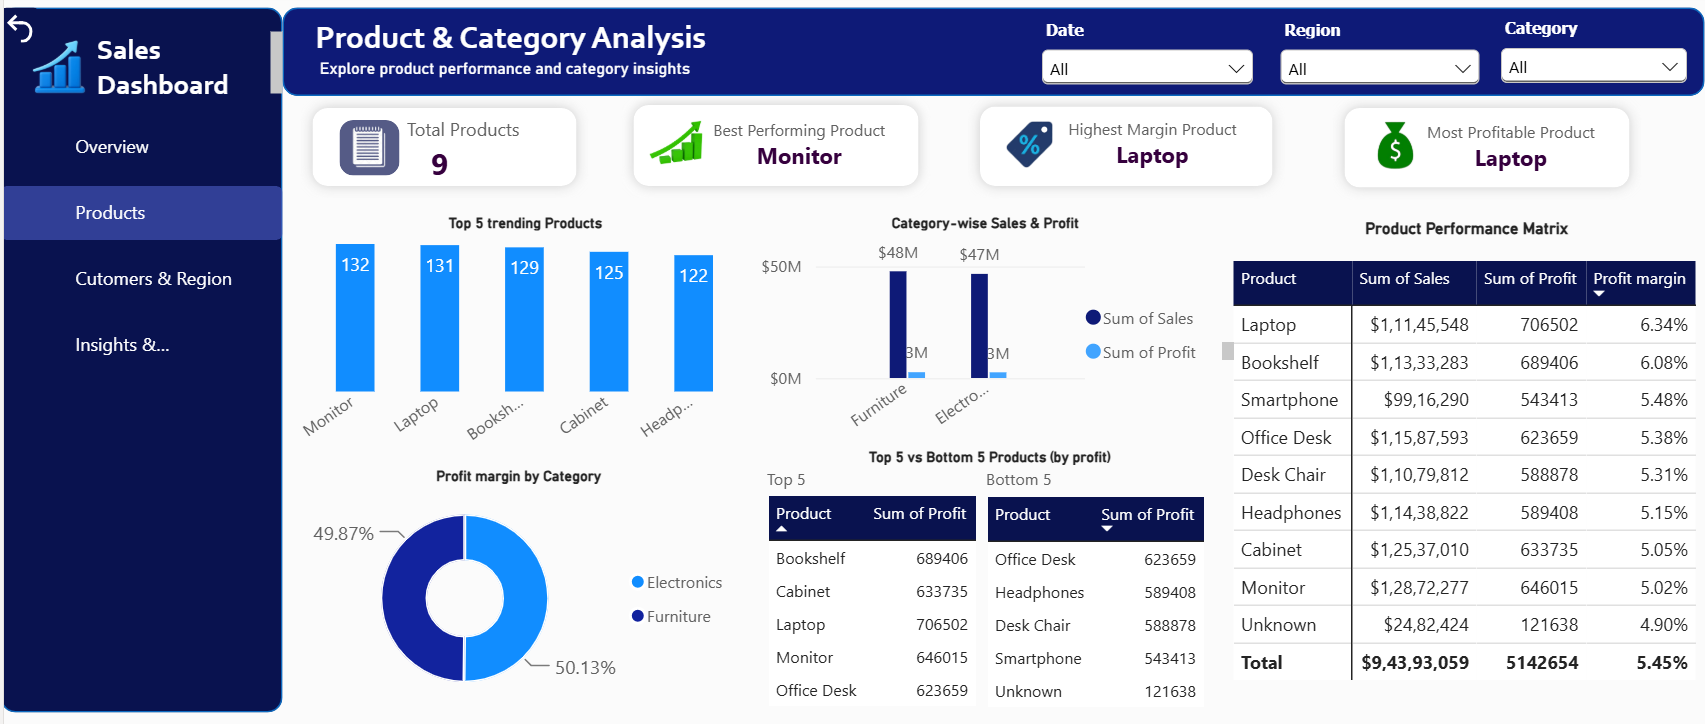

The dashboard page shown, as its layout file describes it:
{"tool":"powerbi","page":{"name":"Products","canvas":[1150,485],"ordinal":1},"visuals":[{"type":"shape","box":[421.2,63.6,206.1,70.7],"z":0},{"type":"shape","box":[195,7,948,59],"z":1000},{"type":"shape","box":[7.1,7.1,188.1,470.2],"z":2000},{"type":"pageNavigator","box":[7,82.4,187.9,169.4],"z":3000},{"type":"textbox","box":[67.3,23.2,127.6,44.1],"z":4000},{"type":"image","box":[15.1,13.9,60.3,65],"z":5000},{"type":"slicer","fields":{"Values":["SalesData.OrderDate"]},"box":[695.7,15.2,151.7,59.7],"z":6000},{"type":"shape","box":[207.1,65.7,191.9,68.7],"z":7000},{"type":"slicer","fields":{"Values":["SalesData.Region"]},"box":[855.4,15.2,142.6,59.7],"z":8000},{"type":"slicer","fields":{"Values":["SalesData.Category"]},"box":[1002,14.2,133.5,59.7],"z":9000},{"type":"shape","box":[894.9,65.7,206.1,69.7],"z":10000},{"type":"cardVisual","fields":{"Data":["Count(SalesData.Product)"]},"box":[277.8,79.8,108.1,45.5],"z":11000},{"type":"clusteredColumnChart","title":"Category-wise Sales & Profit","fields":{"Category":["SalesData.Category"],"Y":["Sum(SalesData.Sales)","Sum(SalesData.Profit)"]},"box":[514.1,141.4,315.2,151.5],"z":12000},{"type":"clusteredColumnChart","title":"Top 5 trending Products","fields":{"Category":["SalesData_1000Rows_WithIssues_copy.Product"],"Y":["CountNonNull(SalesData_1000Rows_WithIssues_copy.OrderID)"]},"box":[207.1,141.4,300,160.6],"z":13000},{"type":"donutChart","title":"Profit margin by Category","fields":{"Y":["measure.Profit margin"],"Category":["SalesData.Category"]},"box":[207,310,307,167],"z":14000},{"type":"cardVisual","fields":{"Data":["measure.Best Performing Product"]},"box":[451.5,63.6,175.8,71.7],"z":15000},{"type":"tableEx","title":"Top 5 vs Bottom 5 Products (by profit)","fields":{"Values":["SalesData.Product","Sum(SalesData.Profit)"]},"box":[502,296,329.5,187.9],"z":15000,"group":"g1"},{"type":"pivotTable","title":"Product Performance Matrix","fields":{"Rows":["SalesData.Product"],"Values":["Sum(SalesData.Sales)","Sum(SalesData.Profit)","measure.Profit margin"]},"box":[829.3,134.3,311.1,333.3],"z":16000},{"type":"tableEx","fields":{"Values":["SalesData.Product","Sum(SalesData.Profit)"]},"box":[663.8,314.2,178.6,170.7],"z":16000,"group":"g1"},{"type":"group","id":"g1","title":"Group 2","box":[502,296,340.4,188.9],"z":17000},{"type":"textbox","box":[514.1,230.3,315.2,12.1],"z":18000},{"type":"textbox","box":[217.2,14.1,612.1,30.3],"z":19000},{"type":"textbox","box":[217.2,36.4,612.1,31.3],"z":20000},{"type":"image","box":[432.3,78.8,50.5,36.4],"z":21000},{"type":"shape","box":[651.5,64.6,211.1,69.7],"z":22000},{"type":"cardVisual","fields":{"Data":["measure.Highest Margin Product"]},"box":[686.9,62.6,175.8,71.7],"z":23000},{"type":"cardVisual","fields":{"Data":["measure.Most Profitable Product"]},"box":[926.3,64.6,175.8,71.7],"z":24000},{"type":"image","box":[915.2,59.6,44.1,81.2],"z":25000},{"type":"image","box":[674.7,78.8,36.4,38.4],"z":26000},{"type":"shape","box":[233.3,81.8,39.4,37.1],"z":27000},{"type":"image","box":[217.2,64.6,70.8,69.6],"z":28000},{"type":"actionButton","box":[7,7,25,16],"z":29000},{"type":"image","box":[32,11,19,15],"z":30000},{"type":"image","box":[24,218,26,33],"z":31000},{"type":"image","box":[22,164,29.2,51.1],"z":31001},{"type":"image","box":[22.1,119.3,28.9,48.1],"z":31002},{"type":"image","box":[22,76.6,29,48.7],"z":31003}]}

Visuals, with their boxes on the page's 1150x485 design canvas (x1, y1, x2, y2). These are canvas units, not pixel positions in the 1705x724 screenshot, which may show the page scaled, cropped or inside an application window:
shape: bbox(421, 64, 627, 134)
shape: bbox(195, 7, 1143, 66)
shape: bbox(7, 7, 195, 477)
pageNavigator: bbox(7, 82, 195, 252)
textbox: bbox(67, 23, 195, 67)
image: bbox(15, 14, 75, 79)
slicer - SalesData.OrderDate: bbox(696, 15, 847, 75)
shape: bbox(207, 66, 399, 134)
slicer - SalesData.Region: bbox(855, 15, 998, 75)
slicer - SalesData.Category: bbox(1002, 14, 1136, 74)
shape: bbox(895, 66, 1101, 135)
cardVisual - Count(SalesData.Product): bbox(278, 80, 386, 125)
"Category-wise Sales & Profit" clusteredColumnChart: bbox(514, 141, 829, 293)
"Top 5 trending Products" clusteredColumnChart: bbox(207, 141, 507, 302)
"Profit margin by Category" donutChart: bbox(207, 310, 514, 477)
cardVisual - measure.Best Performing Product: bbox(452, 64, 627, 135)
"Top 5 vs Bottom 5 Products (by profit)" tableEx: bbox(502, 296, 832, 484)
"Product Performance Matrix" pivotTable: bbox(829, 134, 1140, 468)
tableEx - SalesData.Product x Sum(SalesData.Profit): bbox(664, 314, 842, 485)
"Group 2" group: bbox(502, 296, 842, 485)
textbox: bbox(514, 230, 829, 242)
textbox: bbox(217, 14, 829, 44)
textbox: bbox(217, 36, 829, 68)
image: bbox(432, 79, 483, 115)
shape: bbox(652, 65, 863, 134)
cardVisual - measure.Highest Margin Product: bbox(687, 63, 863, 134)
cardVisual - measure.Most Profitable Product: bbox(926, 65, 1102, 136)
image: bbox(915, 60, 959, 141)
image: bbox(675, 79, 711, 117)
shape: bbox(233, 82, 273, 119)
image: bbox(217, 65, 288, 134)
actionButton: bbox(7, 7, 32, 23)
image: bbox(32, 11, 51, 26)
image: bbox(24, 218, 50, 251)
image: bbox(22, 164, 51, 215)
image: bbox(22, 119, 51, 167)
image: bbox(22, 77, 51, 125)
